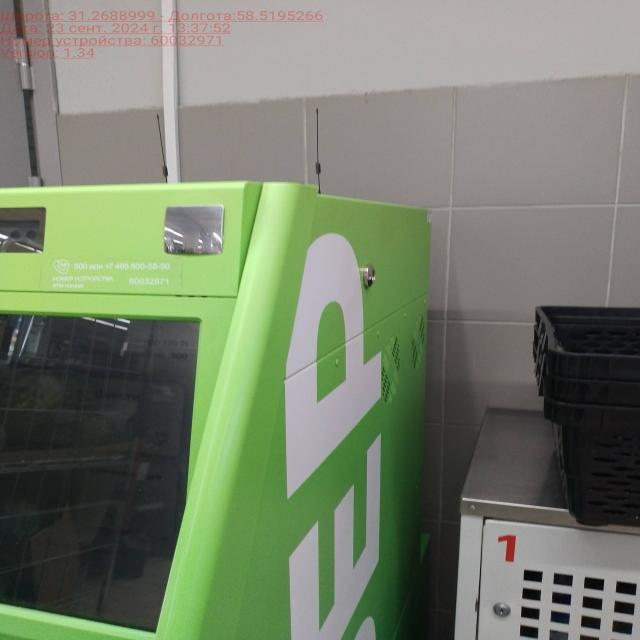bank: (0, 172, 428, 640)
